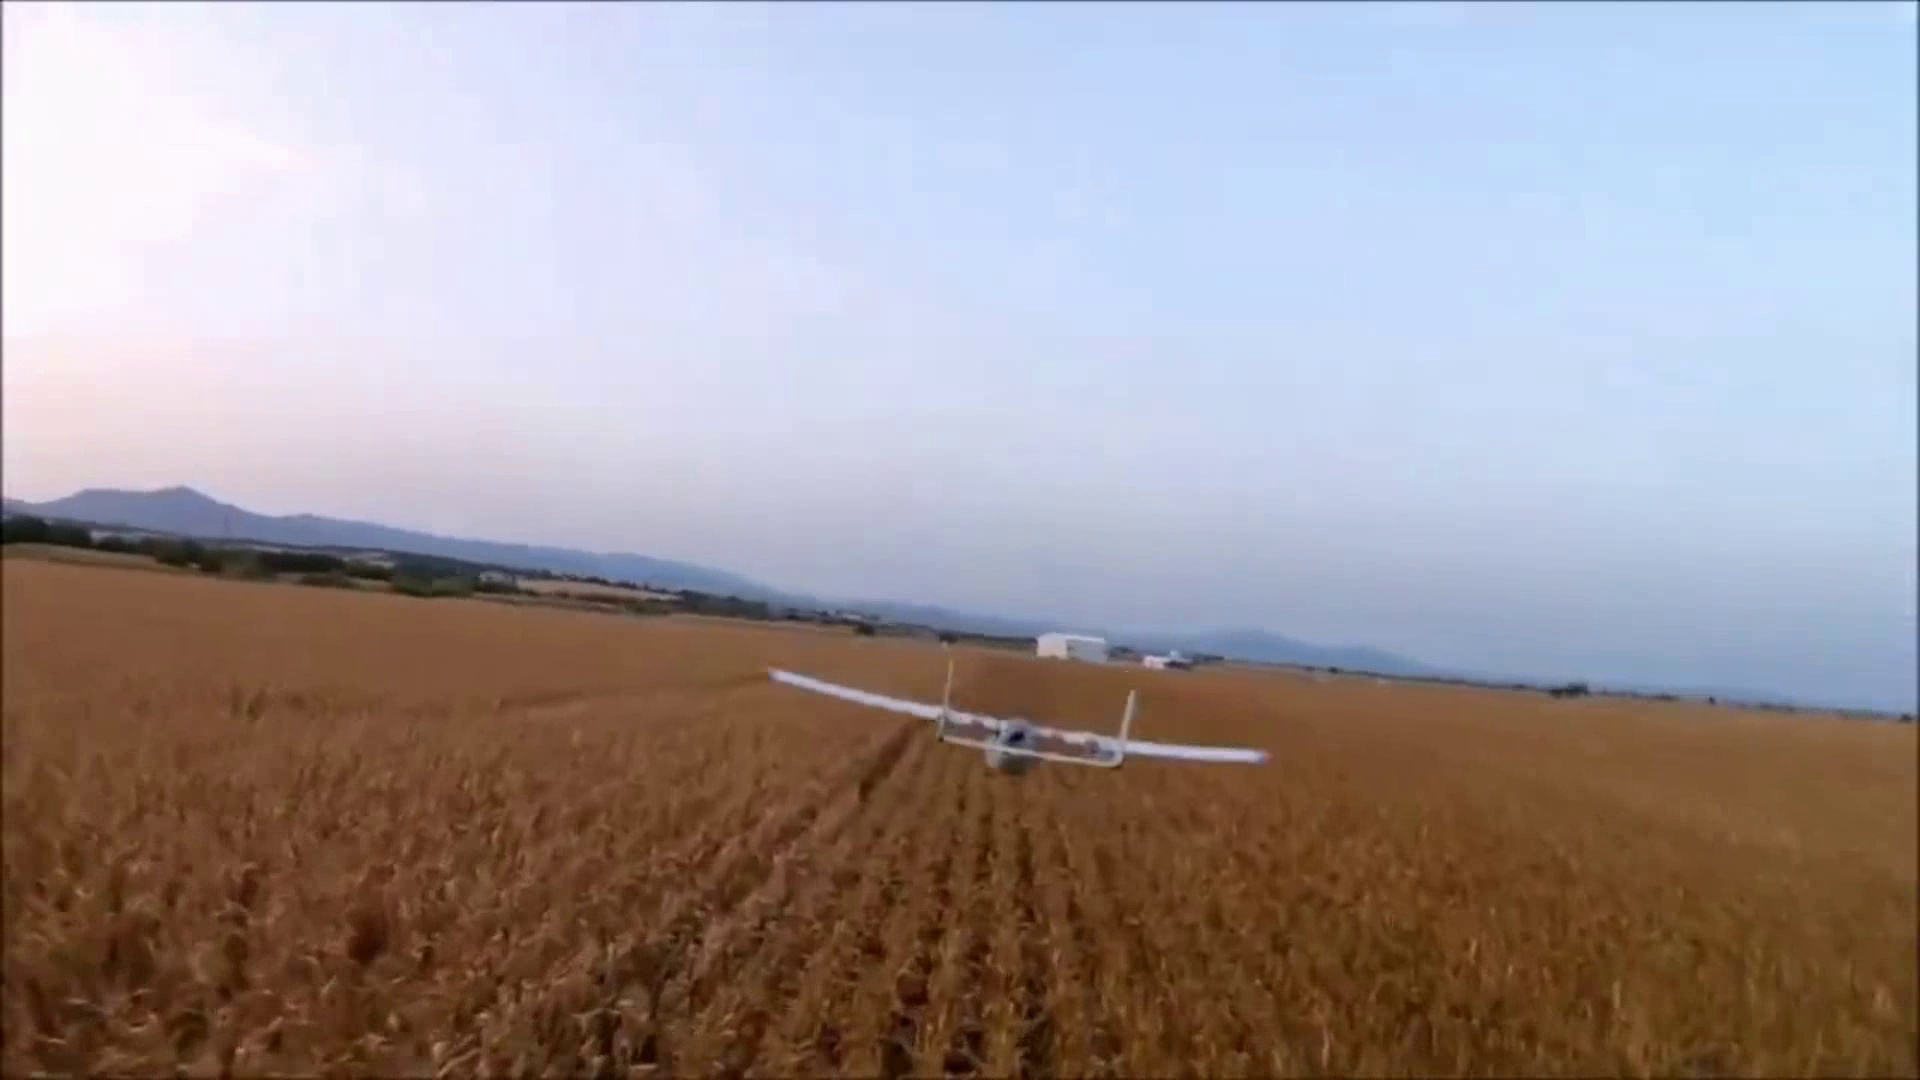airplane: (765, 646, 1270, 774)
